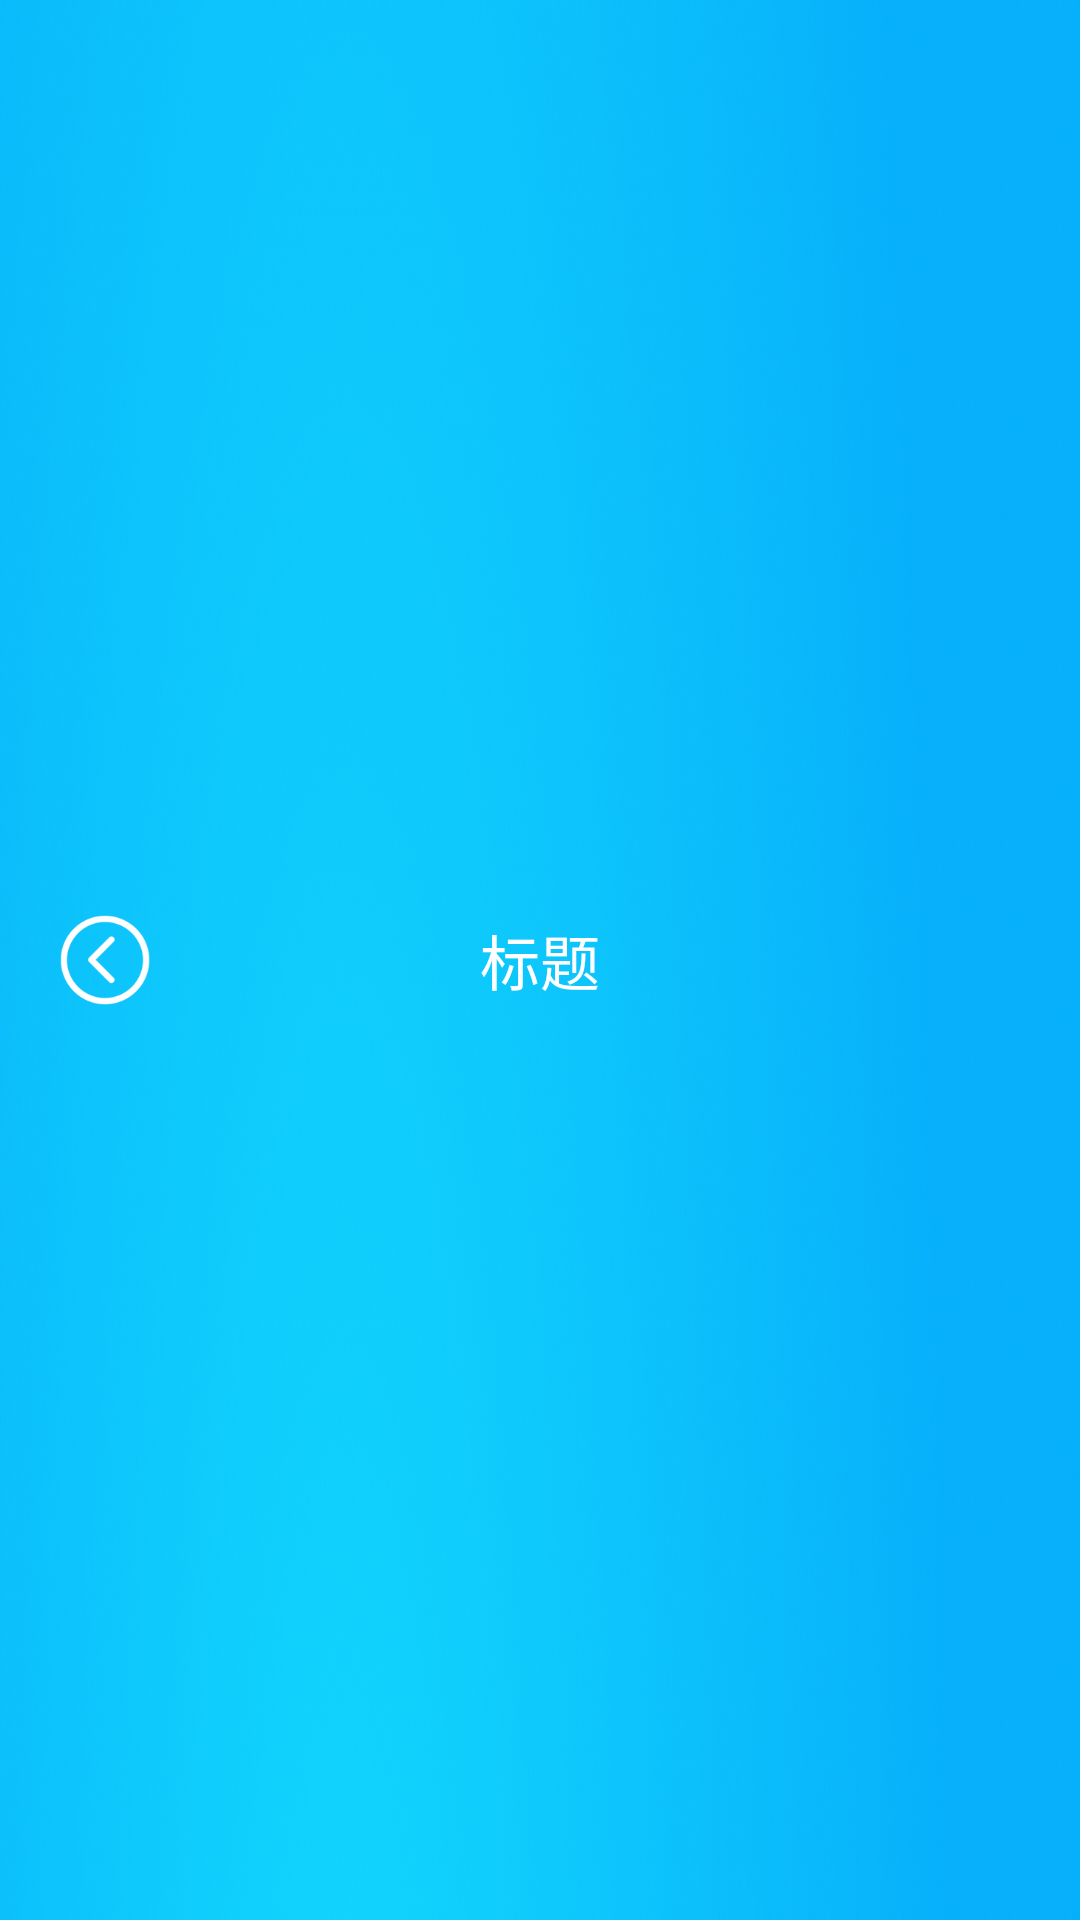

Named icons in this screenshot (1080px×1920px) and their centers, (x=x, y=y):
back: (x=105, y=960)
